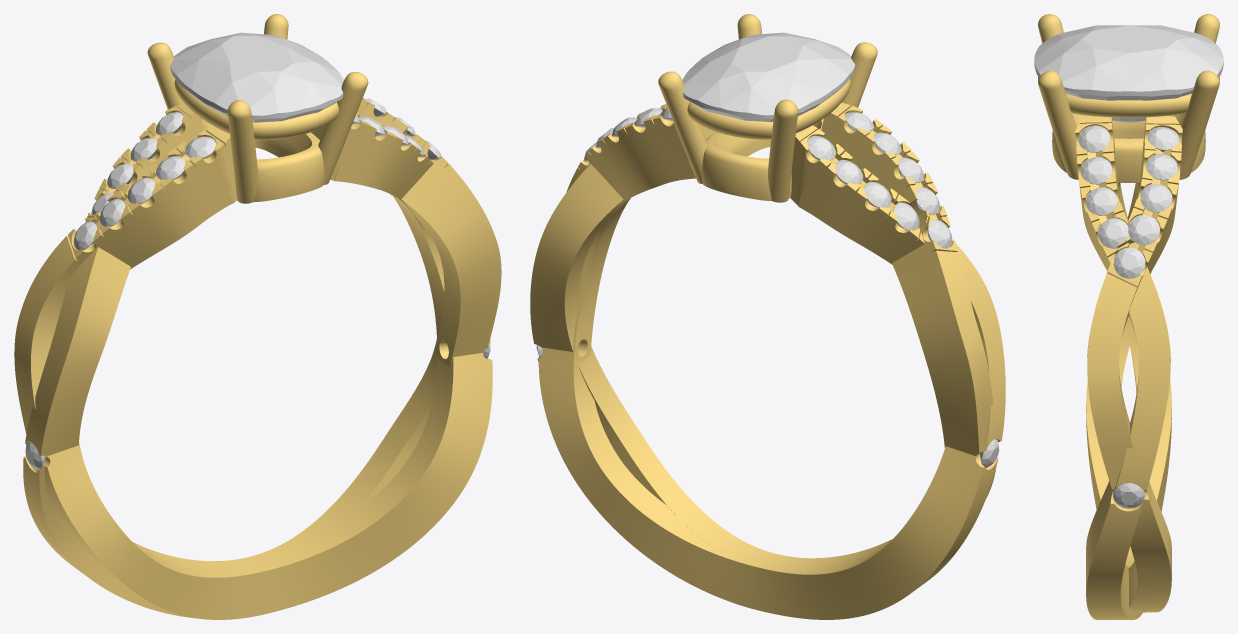
The model's file is diamond-cushion-yellowgold-4prong-twist-sidestones.glb.
3 renders of one model, left to right at view 1: azimuth 30°, elevation 25°; view 2: azimuth 150°, elevation 25°; view 3: azimuth 270°, elevation 25°, orthographic.
Visible parts, largest first — view 1: metal, stone; view 2: metal, stone; view 3: metal, stone, side.015, side.016, side.017, side.011, side.012, side.013, side.014, side.018, side.010, side.019.
Boxes of the visible parts, x1,y1,x2,y2 form: metal: [14, 14, 501, 619]; stone: [170, 32, 343, 122]; metal: [530, 14, 1005, 619]; stone: [682, 32, 855, 122]; metal: [1038, 14, 1219, 619]; stone: [1034, 25, 1223, 122]; side.015: [1113, 247, 1145, 278]; side.016: [1128, 215, 1159, 245]; side.017: [1140, 184, 1172, 212]; side.011: [1098, 218, 1129, 248]; side.012: [1086, 187, 1117, 215]; side.013: [1080, 157, 1112, 184]; side.014: [1078, 125, 1110, 152]; side.018: [1146, 154, 1177, 180]; side.010: [1113, 483, 1144, 508]; side.019: [1147, 127, 1179, 150].
Bounding box in the file's own units: 19.97 × 23.03 × 7.15.
